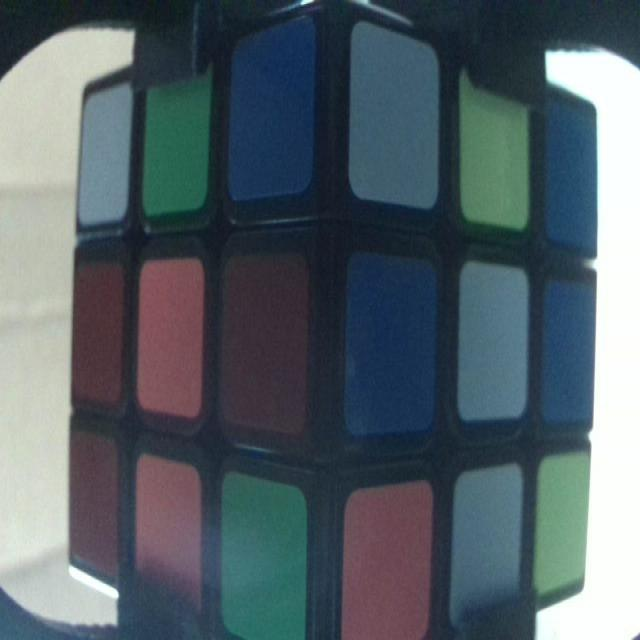b: (351, 267, 432, 419), (237, 45, 307, 177), (546, 108, 594, 245), (547, 287, 593, 419)
g: (224, 489, 304, 631), (146, 90, 205, 202)
o: (347, 492, 431, 636), (137, 461, 201, 602), (142, 260, 200, 406)
r: (220, 264, 302, 421), (72, 271, 120, 394), (69, 436, 113, 562)
w: (353, 40, 438, 194), (464, 272, 524, 408), (458, 478, 520, 600), (80, 102, 126, 214)
y: (464, 102, 530, 217), (541, 464, 588, 582)
